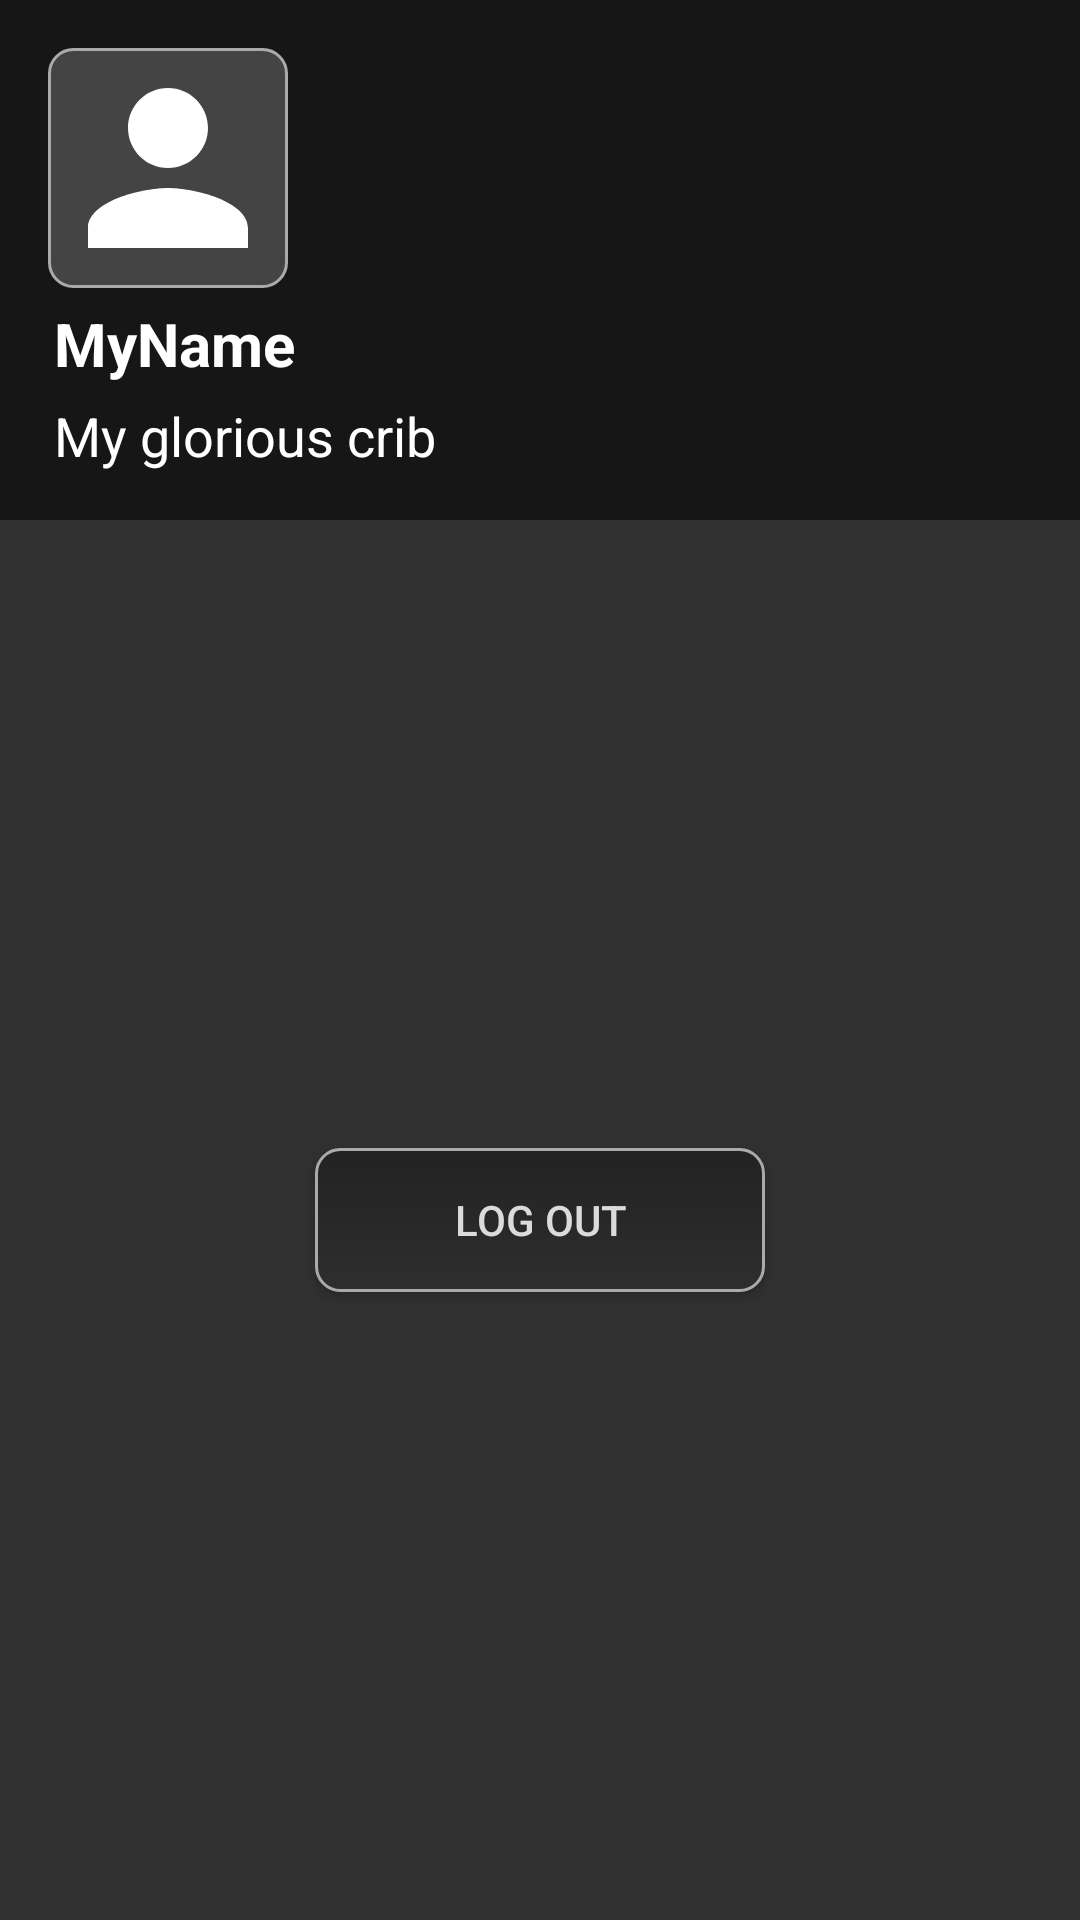

Where to tap for icons on this 1080 × 1920 app screen, as [x,y]:
user: [168,168]
